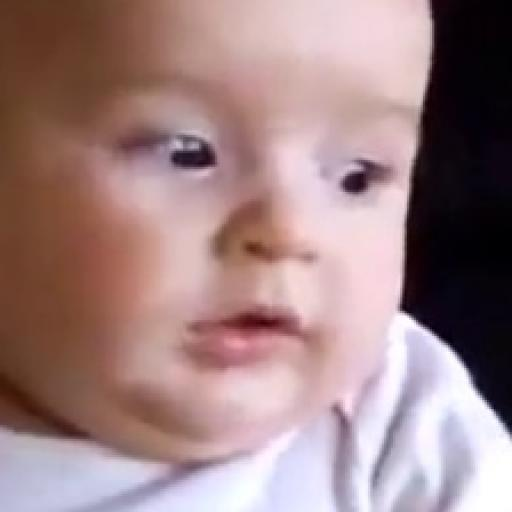Autism: (32, 0, 389, 469)
